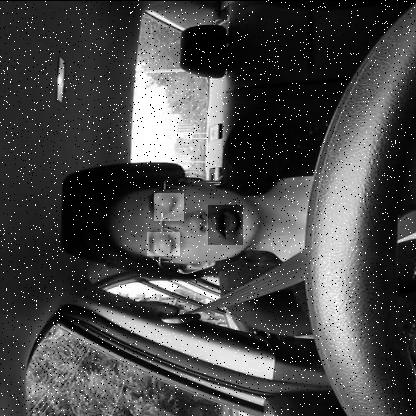seatbelt: (74, 160, 416, 296)
